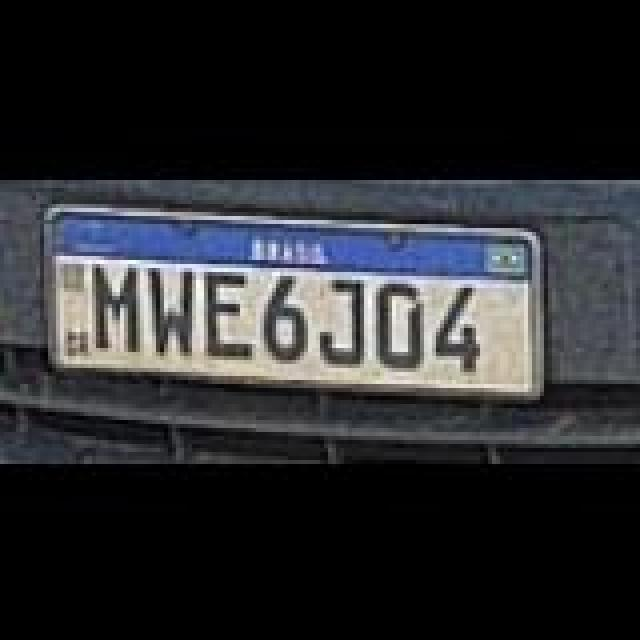4: (432, 280, 488, 368)
6: (260, 272, 316, 360)
D: (372, 280, 428, 368)
E: (200, 268, 256, 356)
J: (314, 276, 374, 364)
M: (90, 262, 150, 354)
W: (144, 262, 200, 354)
